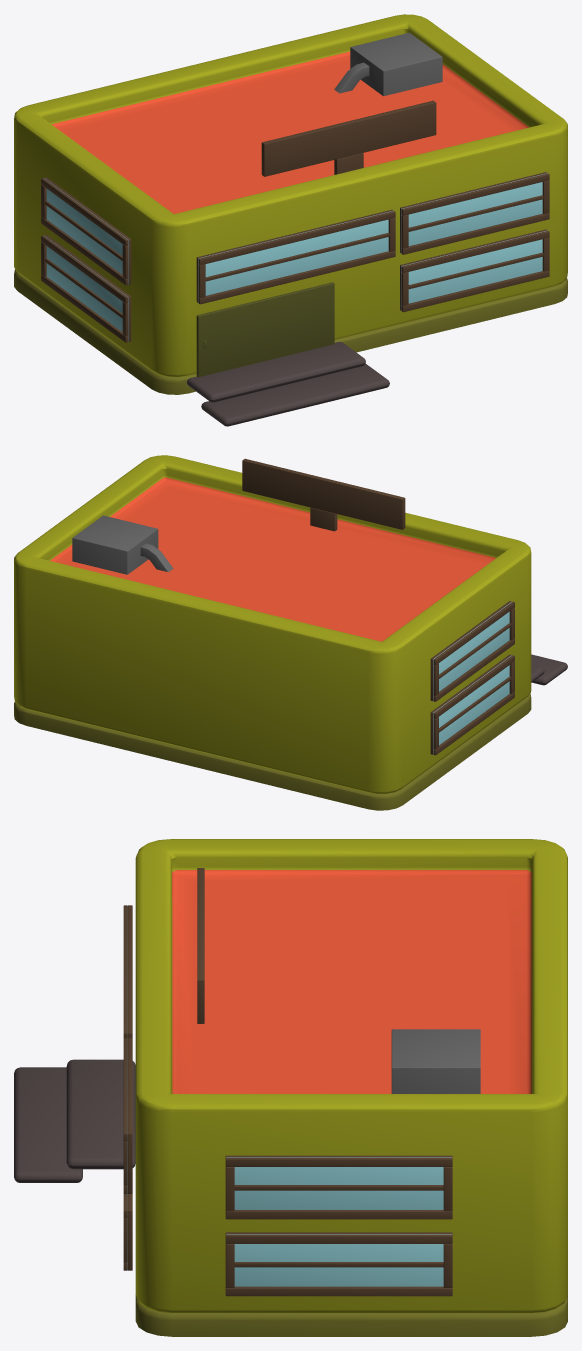
The model's file is GeografiaLevel2.fbx.
3 renders of one model, top to bottom at view 1: azimuth 30°, elevation 25°; view 2: azimuth 150°, elevation 25°; view 3: azimuth 270°, elevation 25°, orthographic. The views are drawn at different scales.
Parts seen in each view (by area): view 1: Predio_geography_nivel_02, Janelas_predio_Geo_02; view 2: Predio_geography_nivel_02, Janelas_predio_Geo_02; view 3: Predio_geography_nivel_02, Janelas_predio_Geo_02.
Boxes of the visible parts, left/top/right/bottom form: Predio_geography_nivel_02: left=14, top=14, right=567, bottom=426; Janelas_predio_Geo_02: left=41, top=32, right=549, bottom=377; Predio_geography_nivel_02: left=14, top=455, right=567, bottom=810; Janelas_predio_Geo_02: left=72, top=458, right=514, bottom=755; Predio_geography_nivel_02: left=14, top=839, right=567, bottom=1336; Janelas_predio_Geo_02: left=123, top=868, right=480, bottom=1296.
Size of the model in its own units: 1524 by 718 by 1285.
